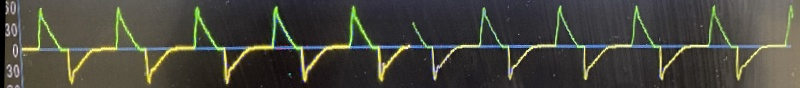normal_flow: (14, 0, 787, 88)
